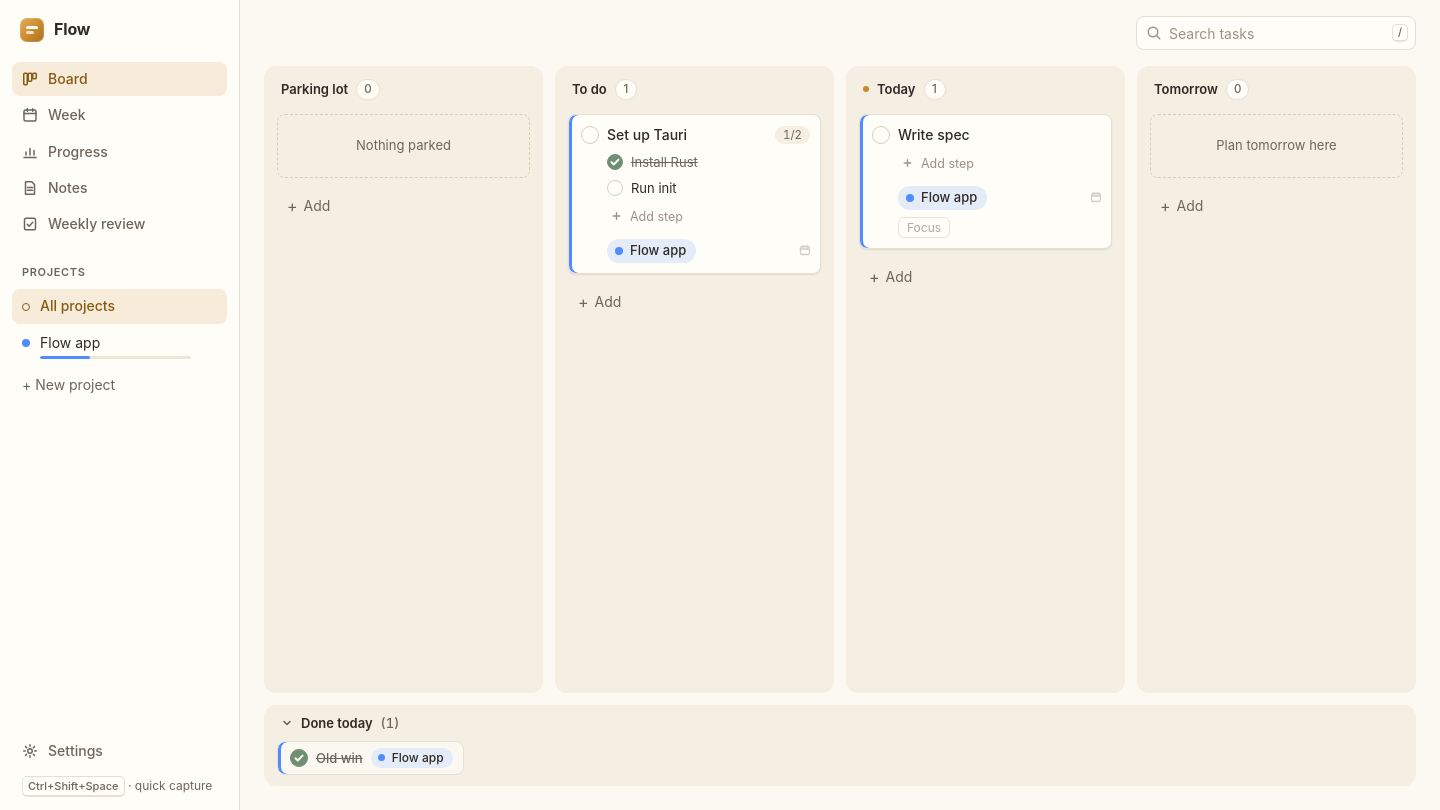
it: Done bar › collapses to its header (still the Done region) and remembers that in local settings
Expected: the button "Set up Tauri" is shown, [607,125,767,144]
Click the button "Done today (1)" at (340, 723), box [273,710,407,737]
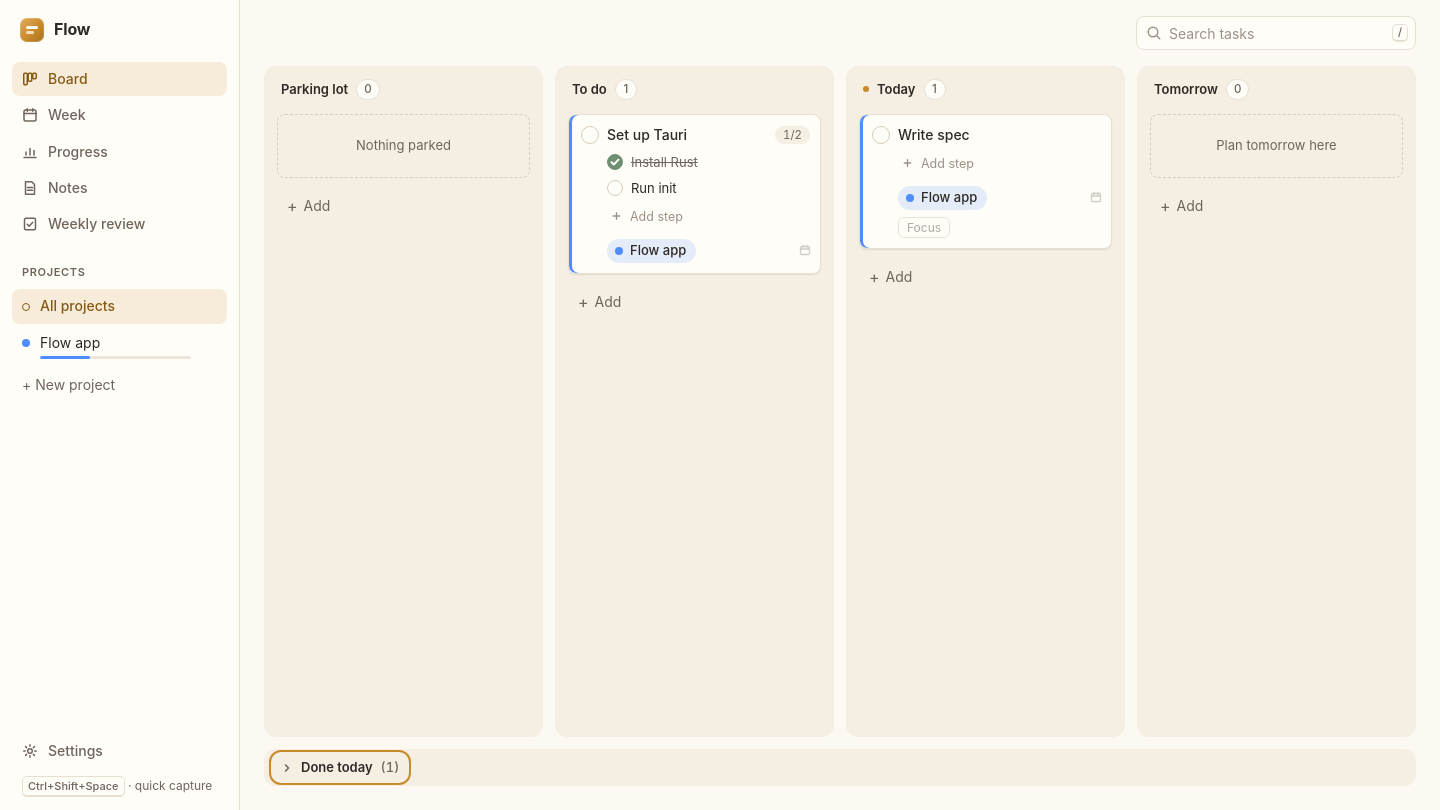
Expected: the button "Done today (1)" is collapsed, [273,754,407,781]
Expected: the button "Old win" is gone
Ticking while collapsed still completes the task and updates the count.
Click the checkbox named "Done: Write spec" at (881, 135), box [872,126,890,144]
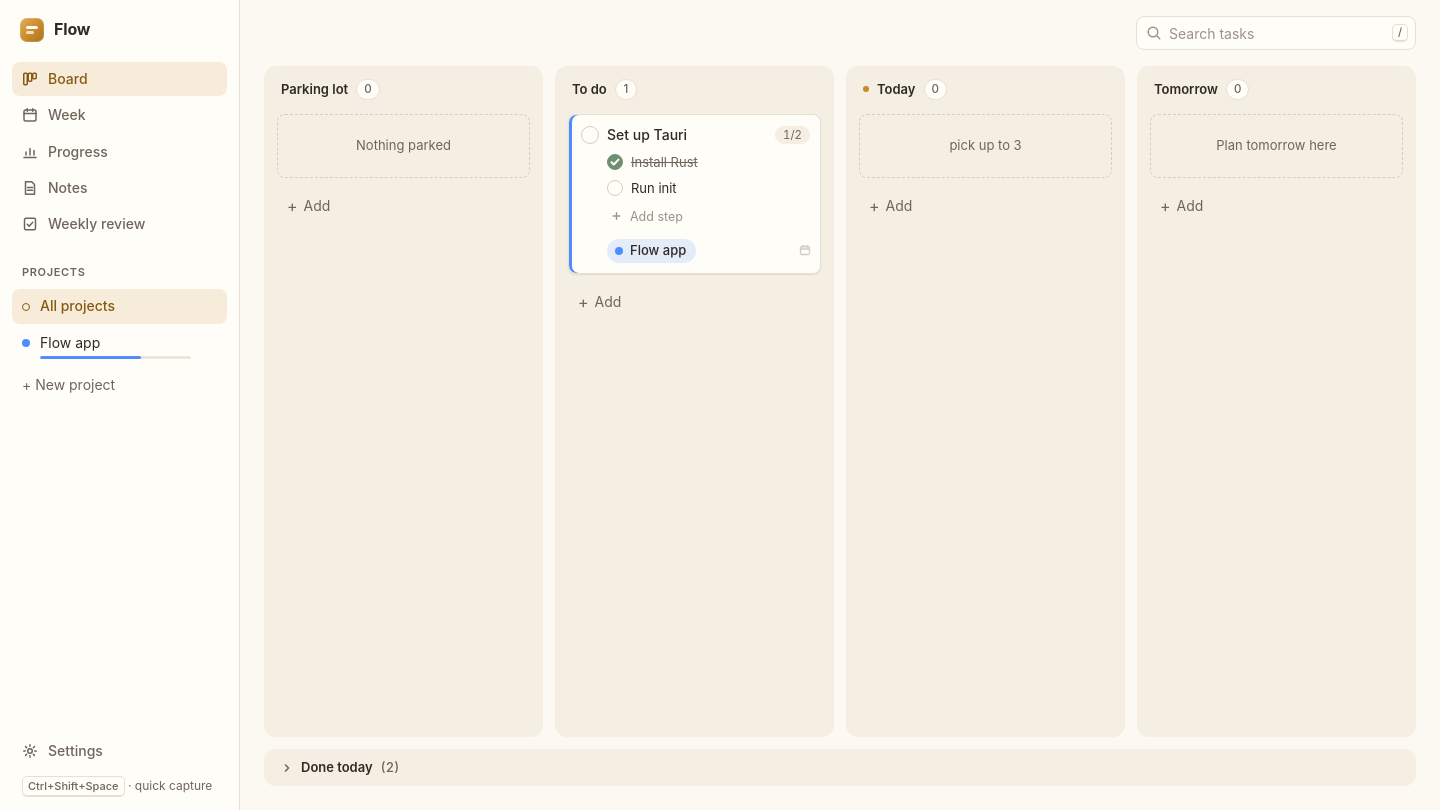
Expected: the heading "Done today (2)" is shown
Click the button "Done today (2)" at (340, 768), box [273,754,407,781]
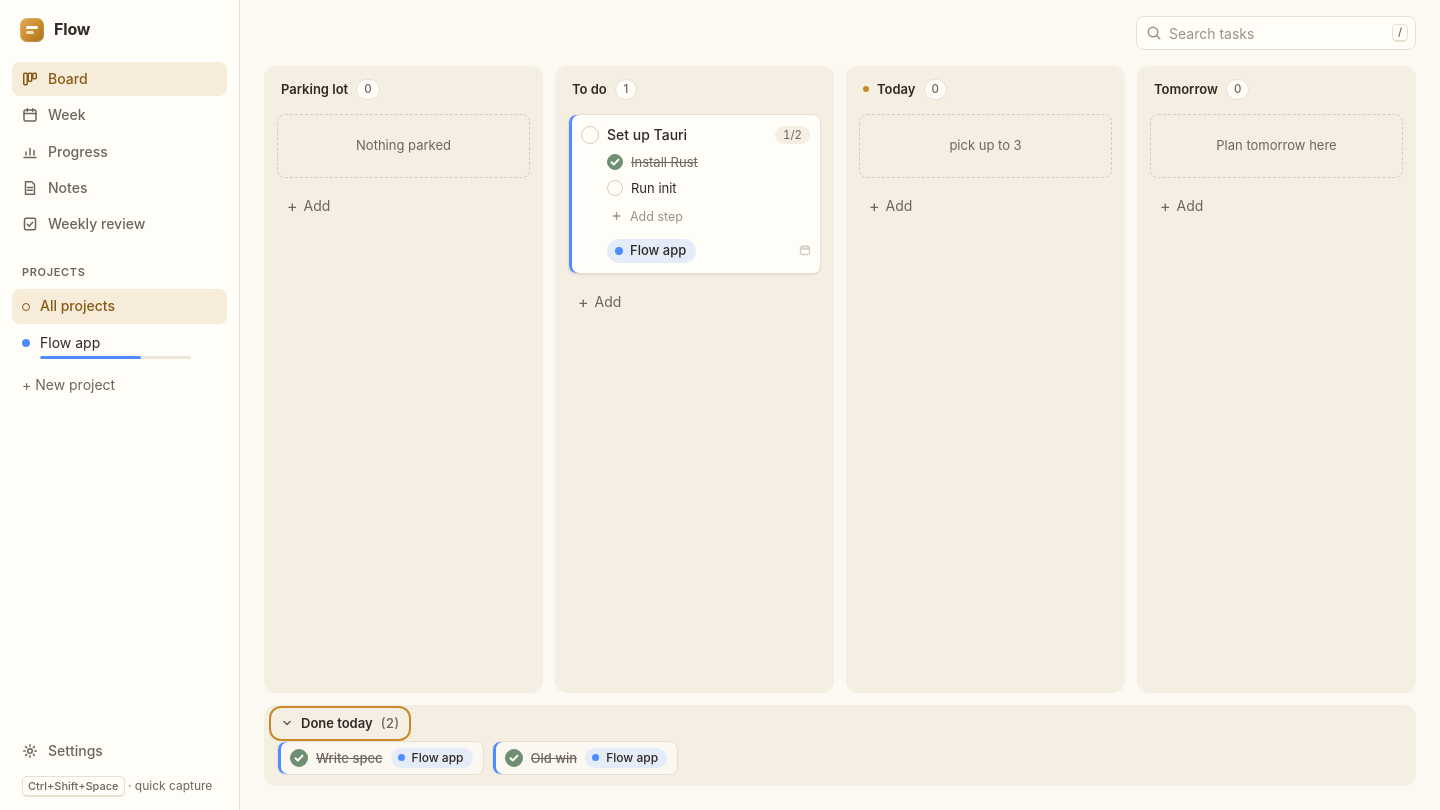
Expected: the button "Write spec" is shown, [316,749,383,767]
